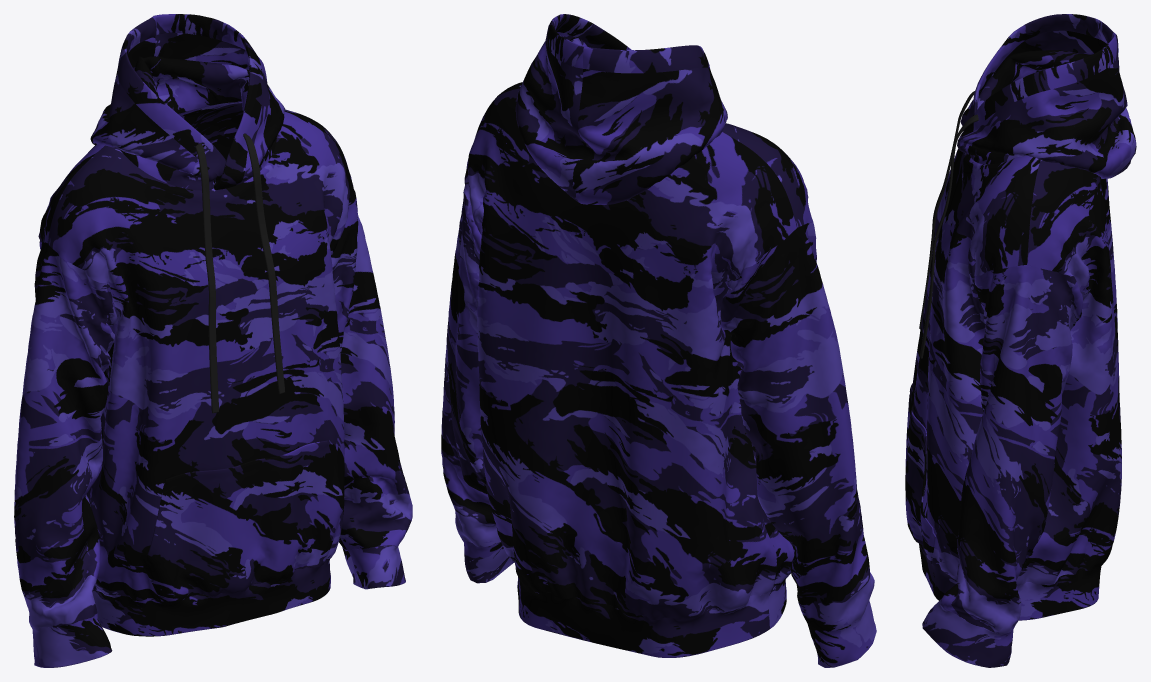
Rendered from brush-like-camo.glb.
3 views of the same model, side by side, from view 1: azimuth 30°, elevation 25°; view 2: azimuth 150°, elevation 25°; view 3: azimuth 270°, elevation 25° (orthographic). The views are drawn at different scales.
Parts seen in each view (by area): view 1: hoodie front_Node, hoodie sleeve_r_Node, hoodie pocket_Node, hoodie sleeve_l_Node, hoodie waistband_f_Node, hoodie hood_l_Node, hoodie hood_r_Node, hoodie back_Node, hoodie casing_upper_r_Node, hoodie cuff_r_Node, hoodie casing_upper_l_Node, hoodie cuff_l_Node (+4 smaller); view 2: hoodie back_Node, hoodie sleeve_r_Node, hoodie hood_r_Node, hoodie sleeve_l_Node, hoodie waistband_b_Node, hoodie hood_l_Node, hoodie front_Node, hoodie casing_upper_r_Node, hoodie cuff_r_Node, hoodie cuff_l_Node, hoodie casing_under_l_Node, hoodie casing_upper_l_Node (+1 smaller); view 3: hoodie sleeve_l_Node, hoodie back_Node, hoodie front_Node, hoodie hood_l_Node, hoodie hood_r_Node, hoodie cuff_l_Node, hoodie casing_upper_l_Node, hoodie pocket_Node, hoodie waistband_b_Node, hoodie casing_under_r_Node, hoodie drawstring_l_Node, hoodie waistband_f_Node (+2 smaller).
Part boxes in pixels (box(x1,y1,x2,y2)): hoodie front_Node: box(47, 109, 355, 601); hoodie sleeve_r_Node: box(14, 242, 117, 628); hoodie pocket_Node: box(143, 440, 344, 603); hoodie sleeve_l_Node: box(330, 193, 412, 550); hoodie waistband_f_Node: box(92, 557, 331, 636); hoodie hood_l_Node: box(154, 32, 284, 185); hoodie hood_r_Node: box(90, 36, 217, 190); hoodie back_Node: box(38, 102, 242, 504); hoodie casing_upper_r_Node: box(117, 17, 226, 189); hoodie cuff_r_Node: box(31, 613, 112, 667); hoodie casing_upper_l_Node: box(160, 14, 263, 189); hoodie cuff_l_Node: box(343, 545, 405, 589); hoodie back_Node: box(463, 88, 796, 619); hoodie sleeve_r_Node: box(720, 221, 874, 631); hoodie hood_r_Node: box(572, 67, 727, 204); hoodie sleeve_l_Node: box(441, 190, 500, 546); hoodie waistband_b_Node: box(510, 557, 770, 657); hoodie hood_l_Node: box(515, 32, 594, 202); hoodie front_Node: box(493, 82, 812, 588); hoodie casing_upper_r_Node: box(583, 45, 709, 73); hoodie cuff_r_Node: box(807, 600, 876, 667); hoodie cuff_l_Node: box(462, 539, 514, 583); hoodie casing_under_l_Node: box(551, 14, 631, 49); hoodie casing_upper_l_Node: box(546, 14, 630, 68); hoodie sleeve_l_Node: box(941, 265, 1085, 633); hoodie back_Node: box(1016, 160, 1121, 585); hoodie front_Node: box(912, 148, 1040, 575); hoodie hood_l_Node: box(957, 57, 1136, 178); hoodie hood_r_Node: box(960, 30, 1135, 161); hoodie cuff_l_Node: box(922, 595, 1015, 667); hoodie casing_upper_l_Node: box(959, 34, 1118, 137); hoodie pocket_Node: box(905, 383, 935, 563); hoodie waistband_b_Node: box(1017, 562, 1104, 620); hoodie casing_under_r_Node: box(974, 14, 1114, 113); hoodie drawstring_l_Node: box(920, 114, 978, 358); hoodie waistband_f_Node: box(918, 543, 957, 600).
Bounding box in the file's own units: 0.6324 × 0.9004 × 0.339.
2 materials, 1 textured.
